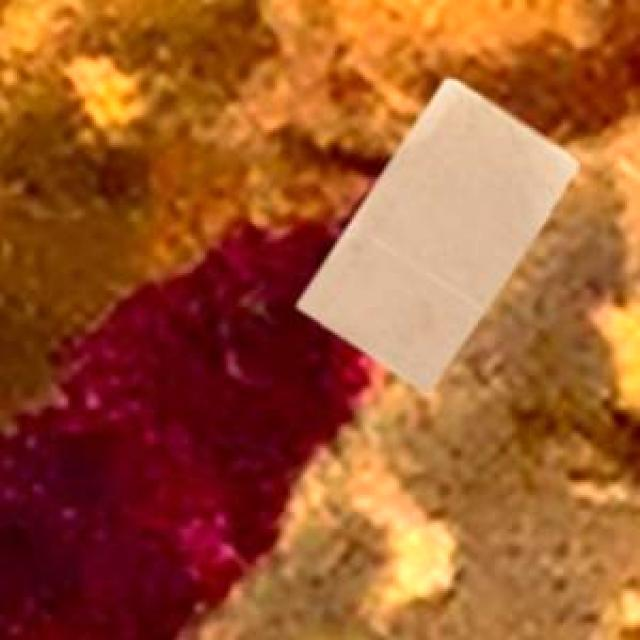Paper_Bag: (295, 78, 575, 392)
